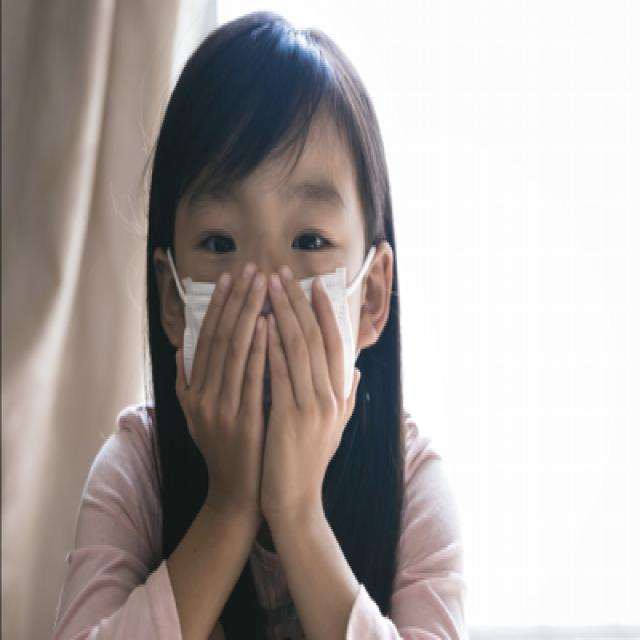with_mask: (175, 173, 372, 485)
